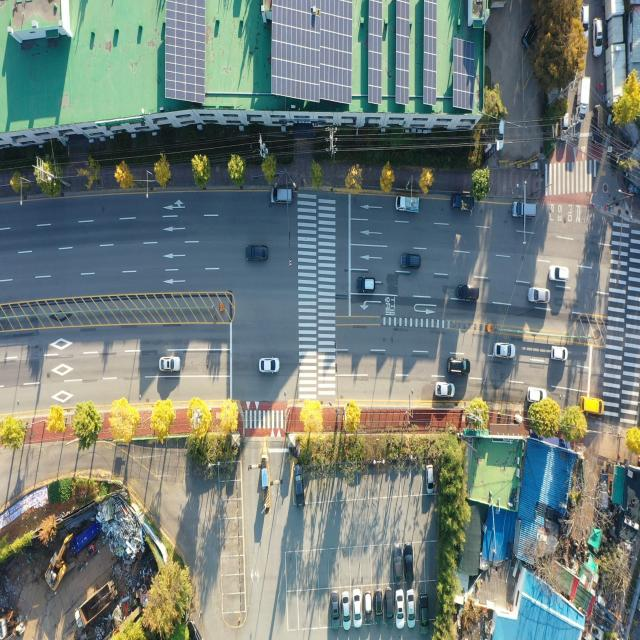car: (522, 18, 537, 50), (512, 202, 538, 219), (331, 590, 342, 630), (495, 115, 506, 151), (456, 284, 477, 302), (594, 20, 604, 57), (294, 466, 303, 506), (247, 245, 268, 262), (272, 187, 294, 203), (580, 400, 602, 416), (161, 356, 182, 372), (449, 358, 470, 374), (592, 105, 601, 141), (393, 544, 402, 580), (395, 590, 404, 626), (494, 343, 514, 359), (353, 593, 362, 628), (363, 591, 372, 625), (261, 357, 280, 373), (528, 387, 547, 403), (402, 253, 422, 268), (343, 591, 351, 628), (550, 267, 568, 283), (406, 546, 414, 582), (408, 591, 416, 627), (436, 383, 455, 398), (528, 287, 548, 301), (385, 589, 393, 624), (421, 592, 429, 627), (376, 590, 384, 623), (552, 347, 568, 361), (583, 5, 590, 36), (359, 278, 374, 292), (562, 115, 569, 144), (427, 466, 434, 494)
medium_truck: (75, 579, 117, 633)
small_truck: (576, 76, 592, 125), (451, 196, 475, 214), (395, 197, 419, 214)
